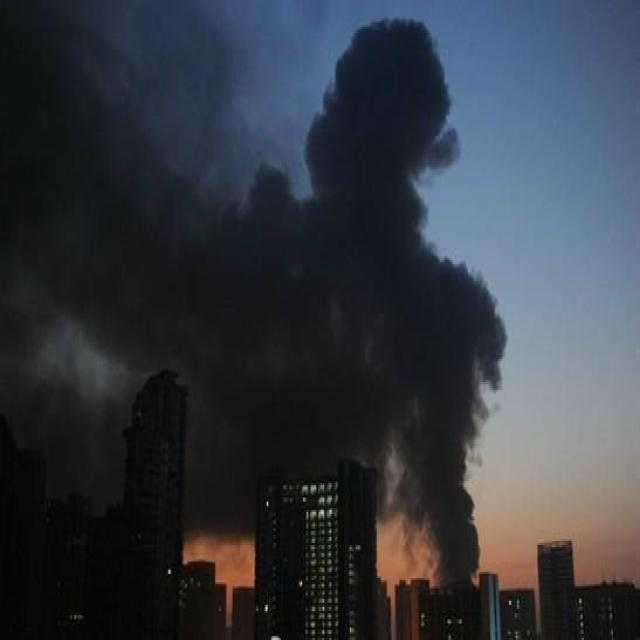Smoke: (1, 2, 508, 591)
